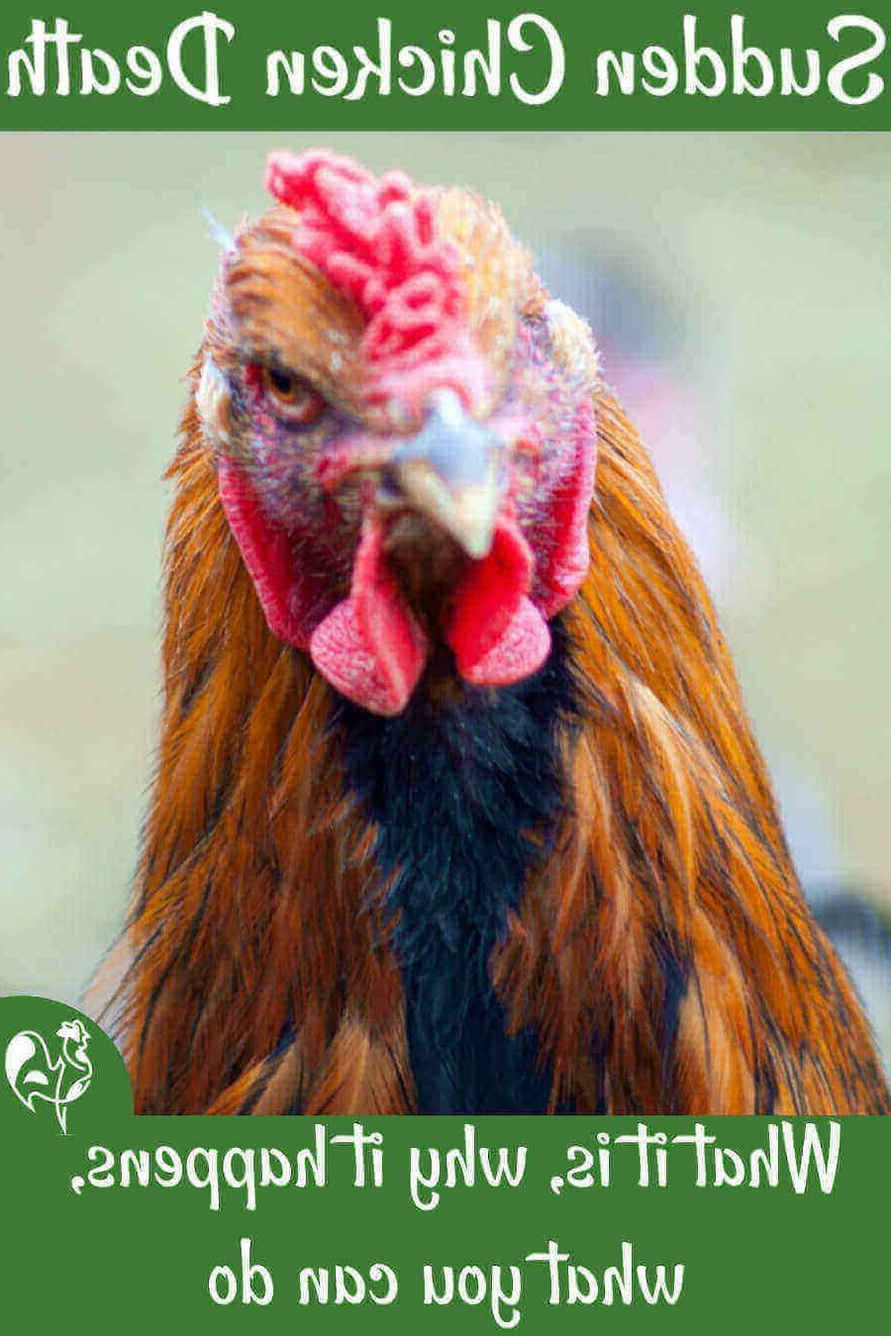AbNormal: (263, 144, 488, 409)
